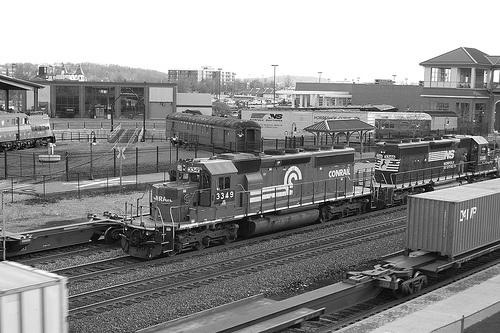train: (105, 147, 375, 259), (344, 179, 500, 292), (355, 135, 500, 204), (167, 111, 263, 156), (377, 110, 432, 137)
